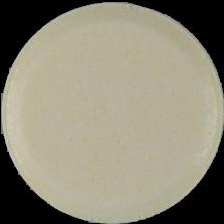63629-2579: (0, 0, 224, 224)
